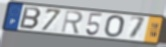5: (85, 12, 103, 37)
7: (42, 7, 64, 33), (129, 16, 146, 41)
B: (18, 6, 43, 31)
O: (103, 14, 126, 38)
R: (60, 9, 84, 35)
